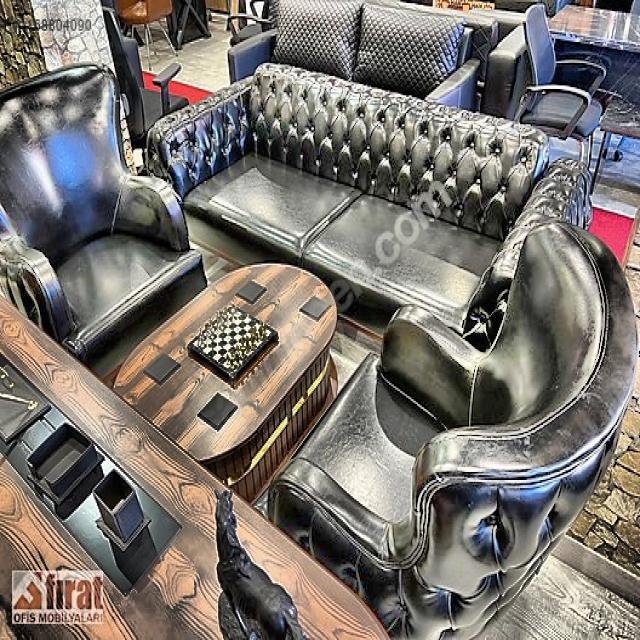sofa: (259, 218, 639, 640), (148, 61, 599, 364), (0, 61, 207, 376)
